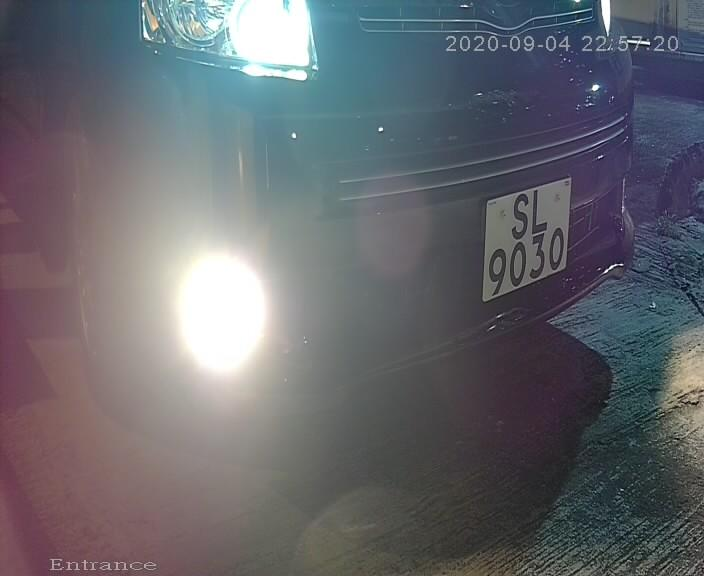License Plate: (466, 161, 579, 321)
